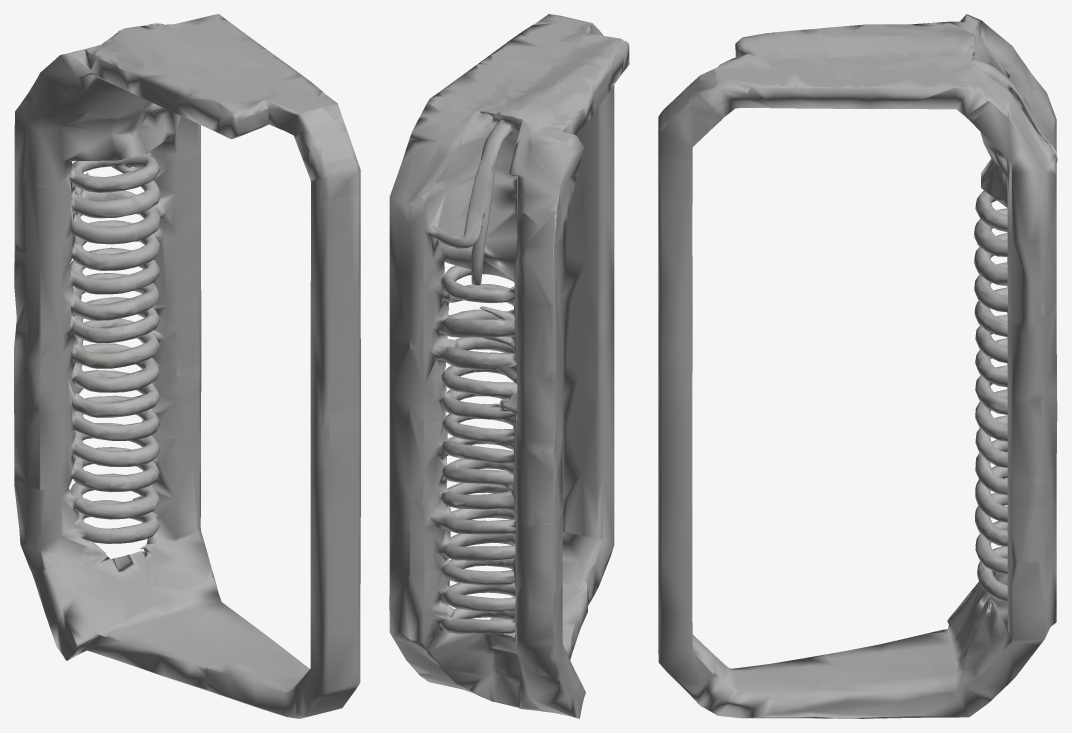
Rendered from xs_staple.glb.
3 renders of one model, left to right at view 1: azimuth 30°, elevation 25°; view 2: azimuth 150°, elevation 25°; view 3: azimuth 270°, elevation 25°, orthographic. The views are drawn at different scales.
Visible parts, largest first — view 1: tripo_node_c4f2d802-9cd2-477e-ac4d-9781d2b8fc0d; view 2: tripo_node_c4f2d802-9cd2-477e-ac4d-9781d2b8fc0d; view 3: tripo_node_c4f2d802-9cd2-477e-ac4d-9781d2b8fc0d.
Boxes of the visible parts, x1=… form: tripo_node_c4f2d802-9cd2-477e-ac4d-9781d2b8fc0d: x1=14, y1=14, x2=360, y2=718; tripo_node_c4f2d802-9cd2-477e-ac4d-9781d2b8fc0d: x1=389, y1=14, x2=629, y2=718; tripo_node_c4f2d802-9cd2-477e-ac4d-9781d2b8fc0d: x1=658, y1=14, x2=1057, y2=718.
Size of the model in its own units: 0.2914 by 1 by 0.5655.
1 material, 1 textured.
